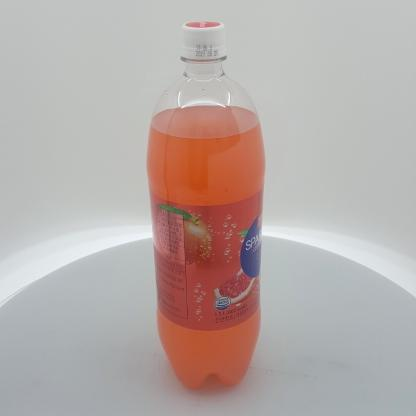--------------: (146, 21, 265, 388)
